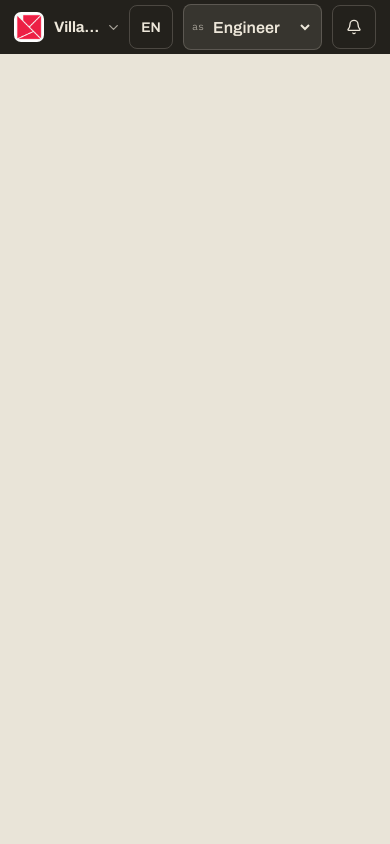
Test: switching from the top bar goes through the existing store path › does NOT offer Portfolio to a role that cannot open it (Codex P2)
What coordinates should you click on to do the following:
click the button with test id "mobile-project-switcher"
I would click on:
 (92, 27)
Its box is [54,5,129,49].
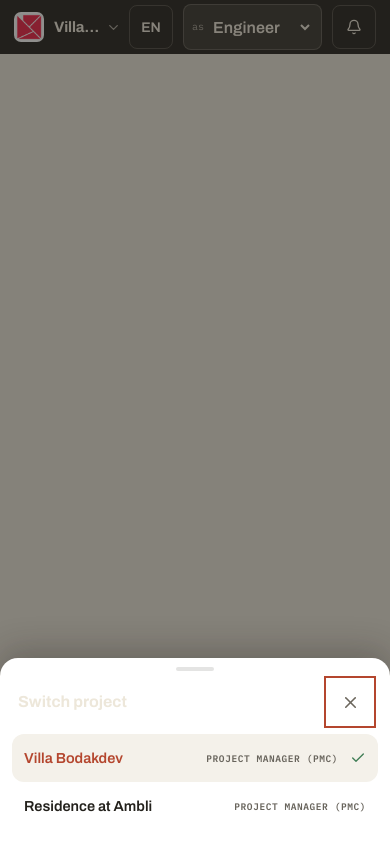
Result: the dialog with test id "project-sheet" is shown at [0,658,389,843]
Result: the button with test id "project-sheet-ambli" is shown at [12,782,378,830]
